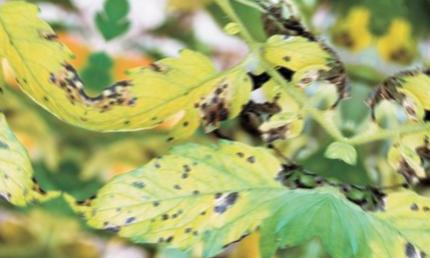Tomato leaf bacterial spot: (68, 104, 295, 258), (83, 19, 261, 165)
